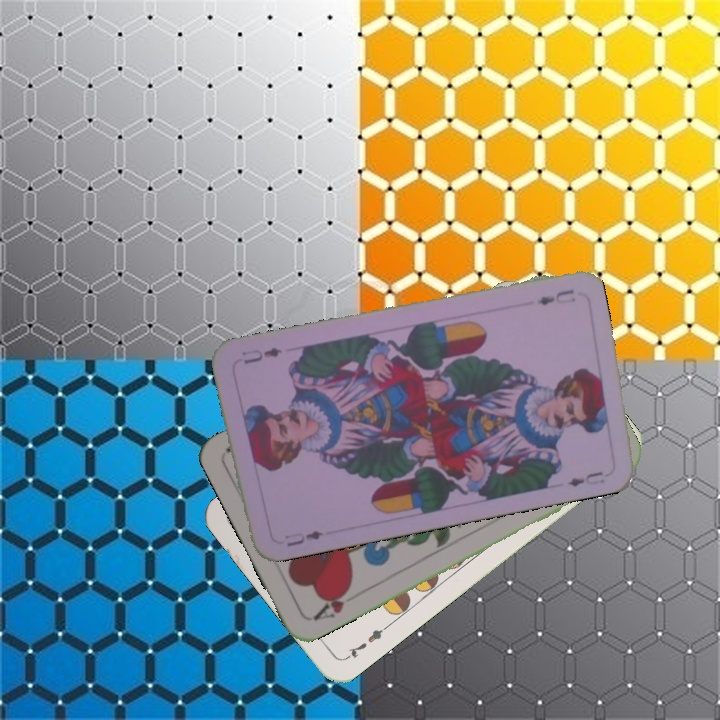E7: (341, 621, 391, 663)
EU: (281, 526, 326, 549), (533, 285, 577, 308)
HA: (309, 582, 355, 624)
